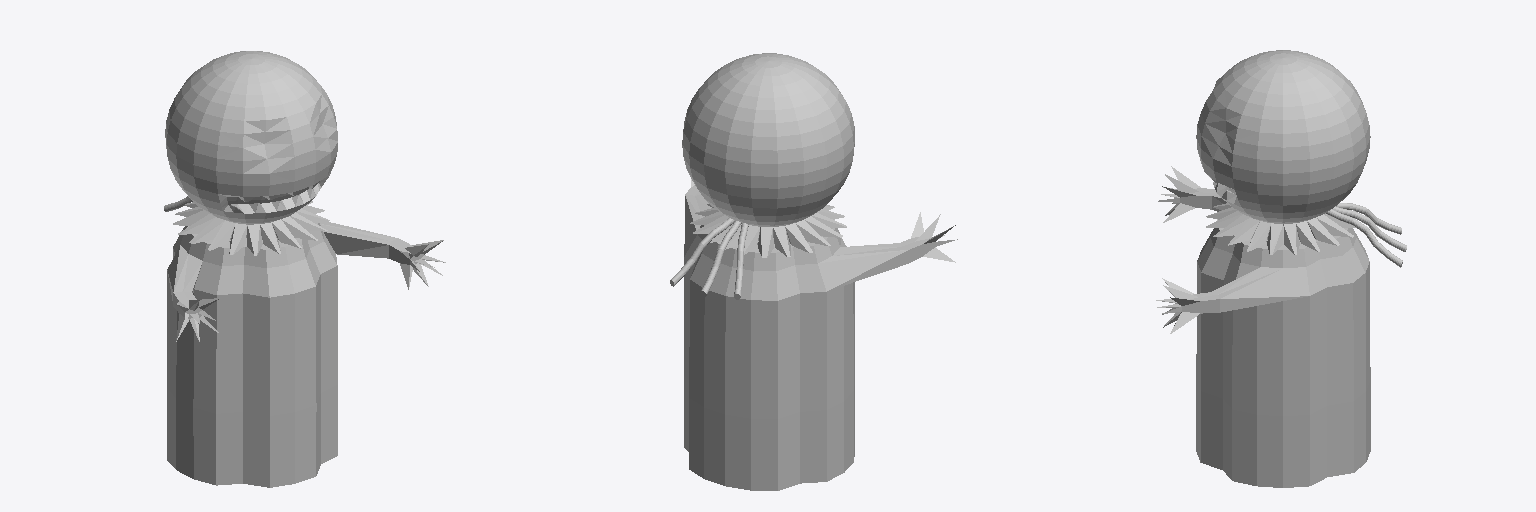
Rendered from Scarecrow.obj.
The picture shows the model from 3 angles: view 1: azimuth 30°, elevation 25°; view 2: azimuth 150°, elevation 25°; view 3: azimuth 270°, elevation 25°; orthographic projection.
Parts seen in each view (by area): view 1: pCylinder6; view 2: pCylinder6; view 3: pCylinder6.
Boxes of the visible parts, box(x1,y1,x2,y2) form: pCylinder6: box(164, 51, 445, 487); pCylinder6: box(670, 53, 957, 490); pCylinder6: box(1156, 50, 1406, 487).
Size of the model in its own units: 3.56 by 4.98 by 2.91.